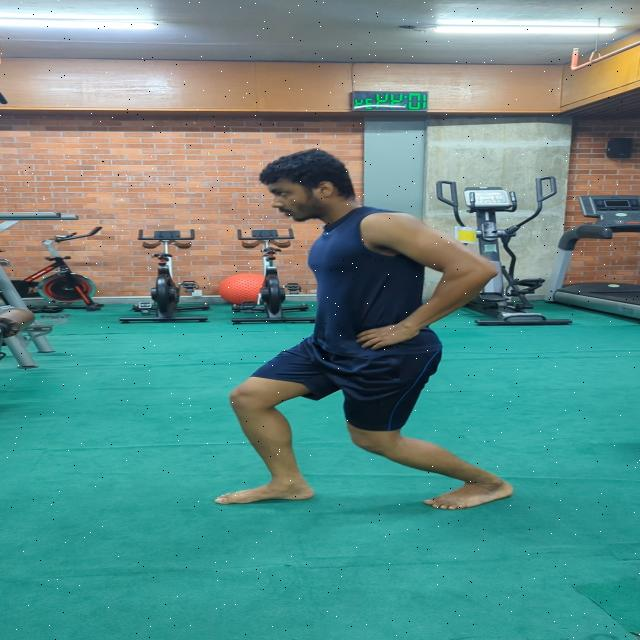Normal_Lunges: (215, 143, 522, 515)
